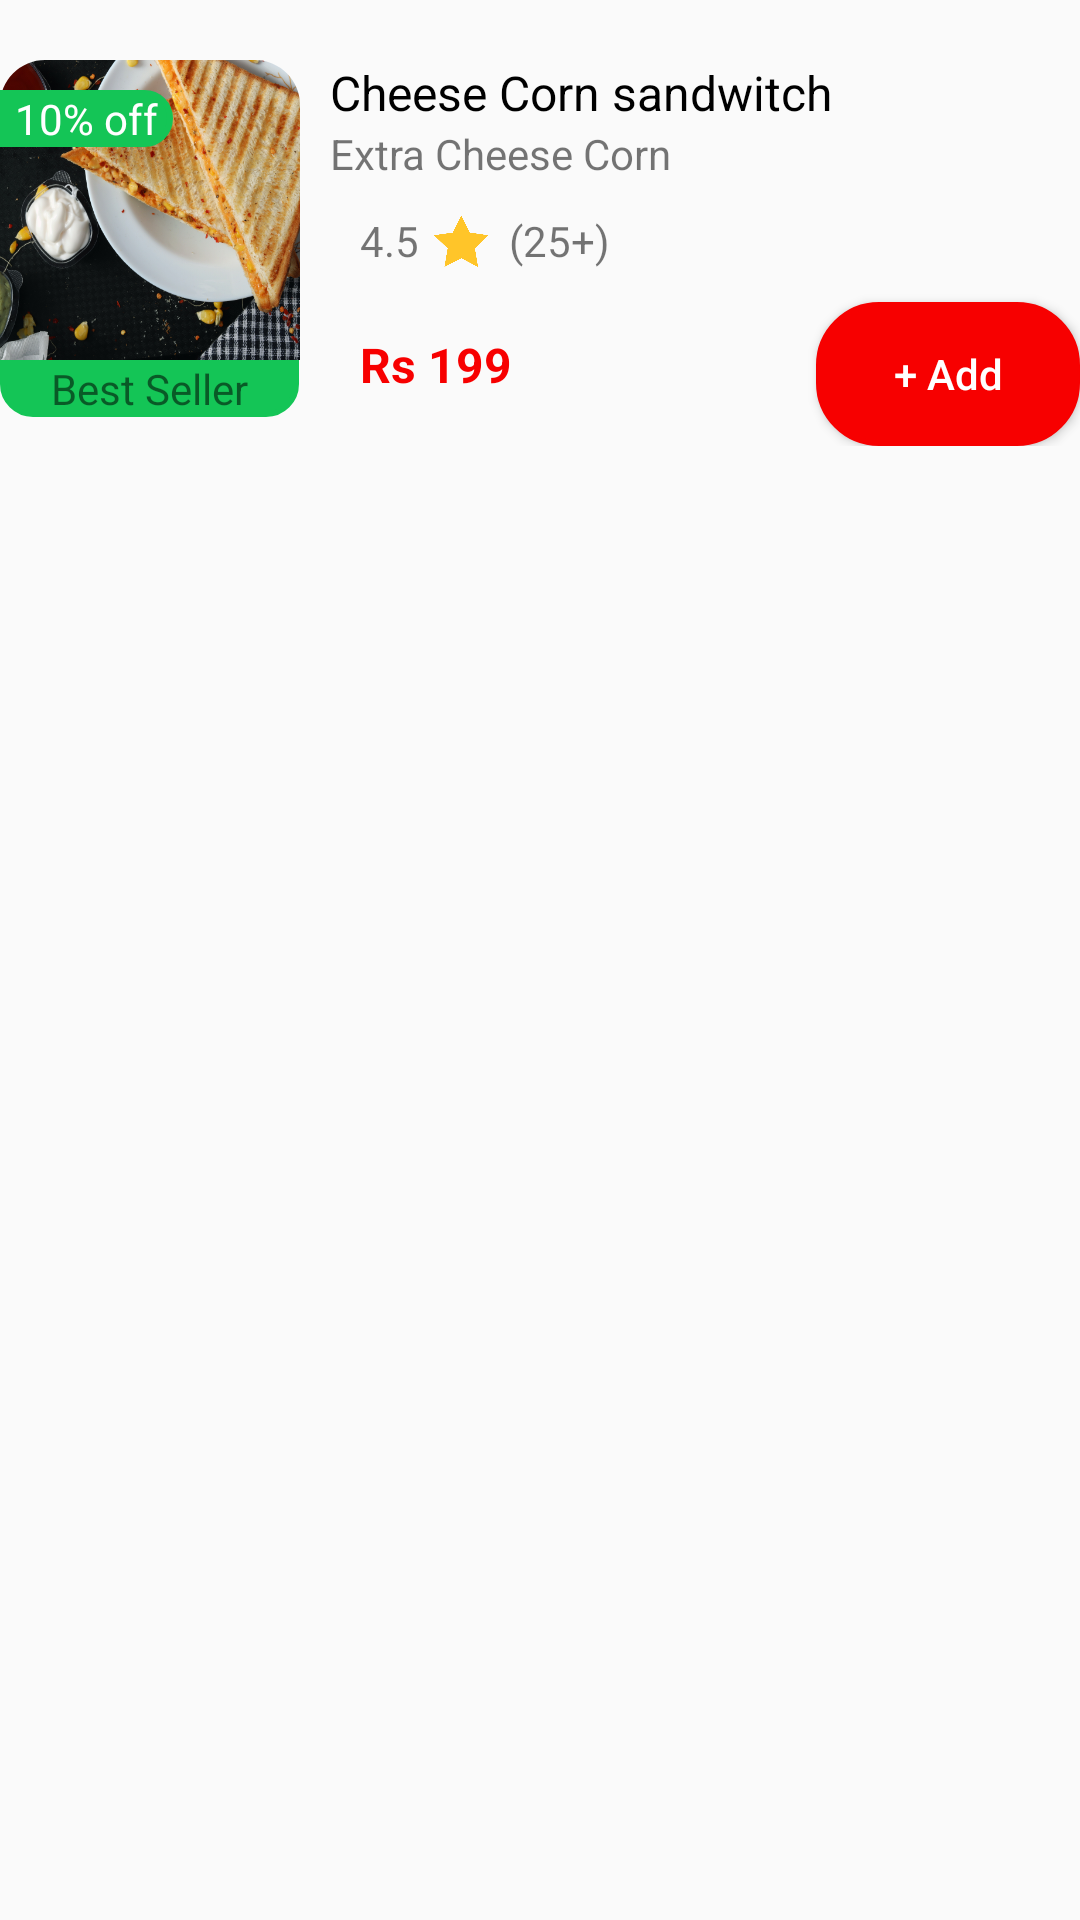

Named icons in this screenshot (1080×1920) and their bounding boxes, box(x1, y1, x2, y2):
food: box(0, 60, 300, 360)
star: box(434, 216, 488, 267)
